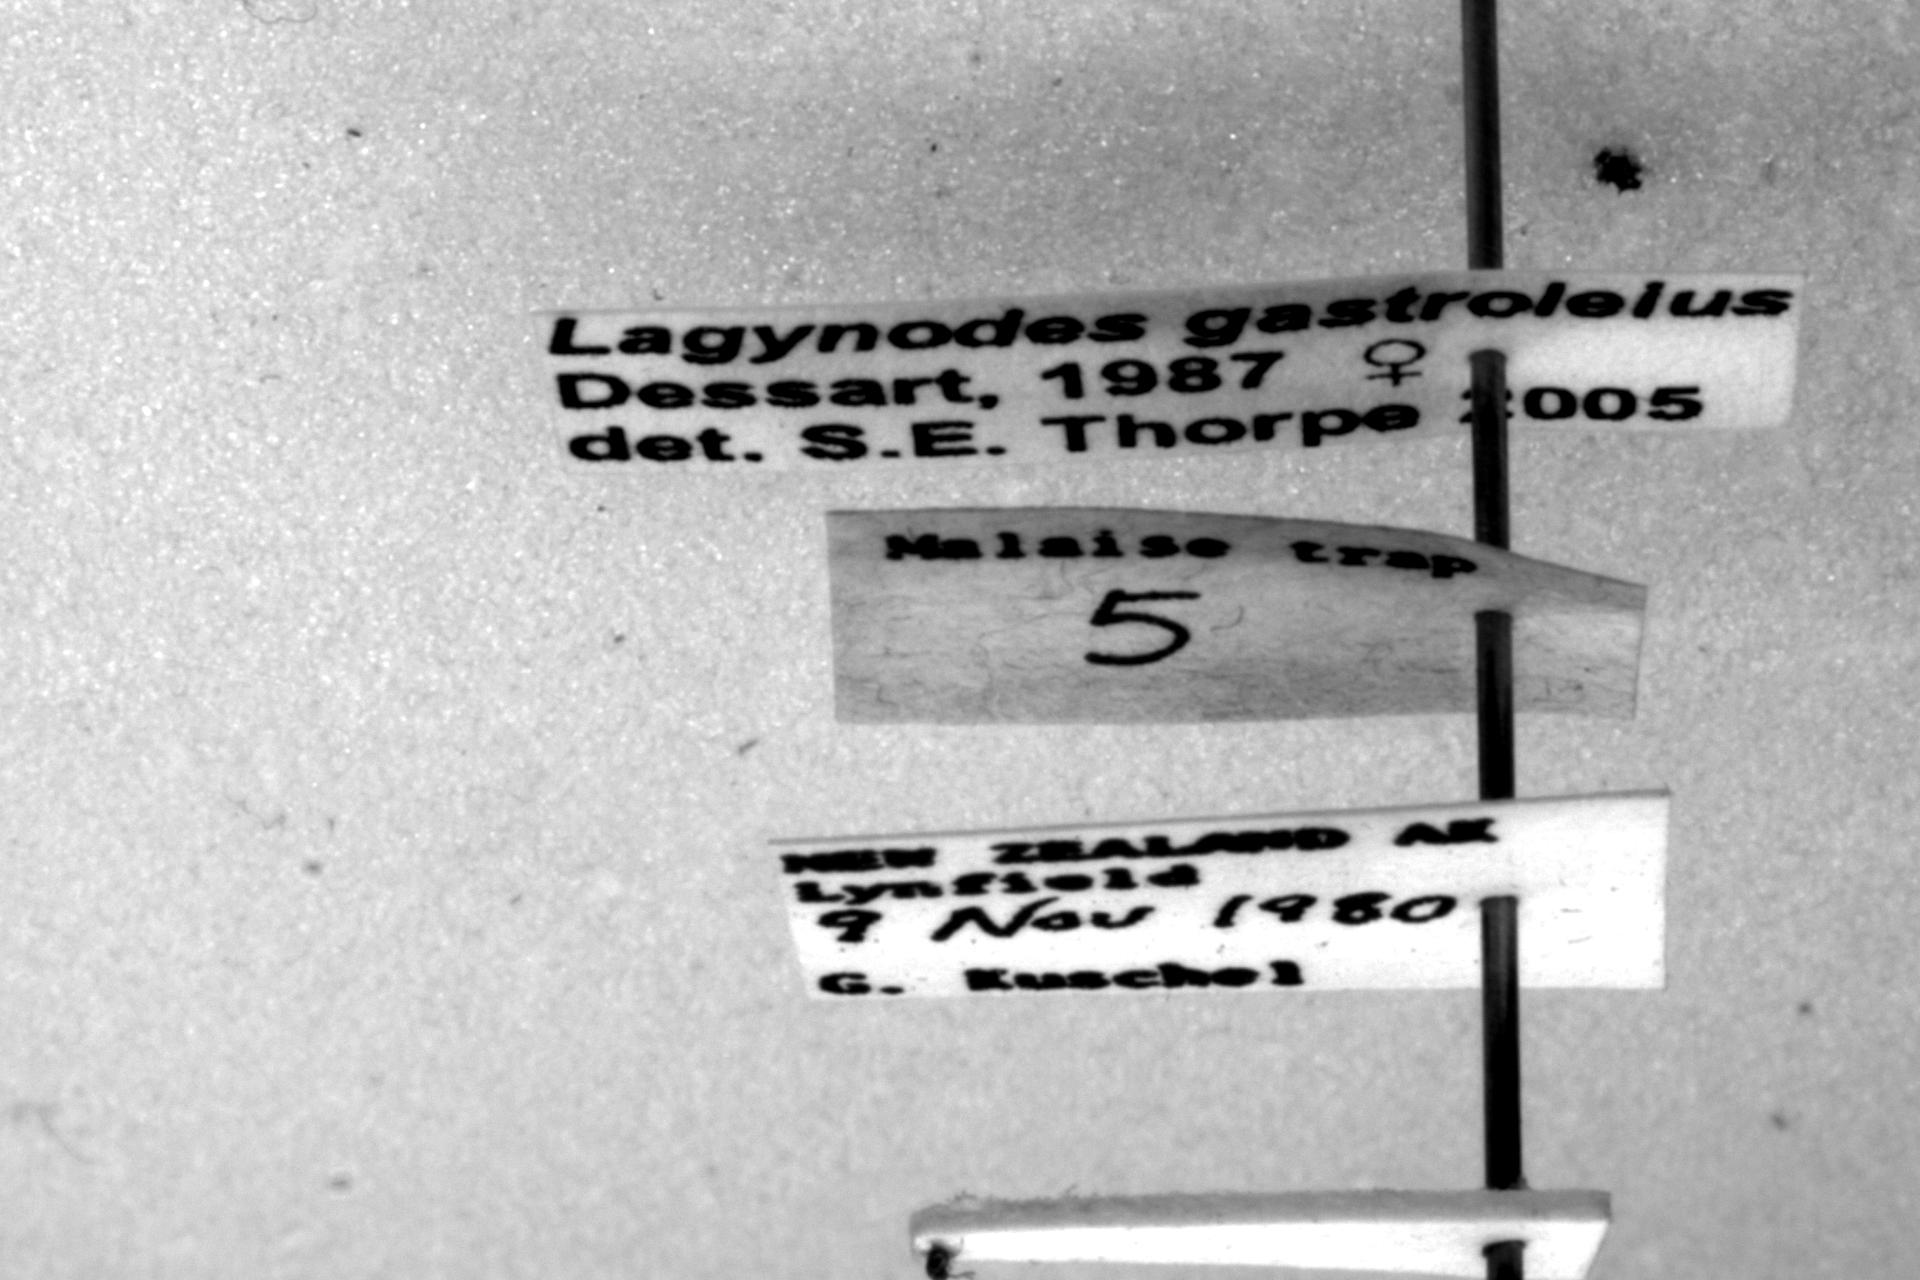mixed_label: (776, 791, 1669, 997), (829, 506, 1646, 724)
typed_label: (536, 270, 1804, 473)
